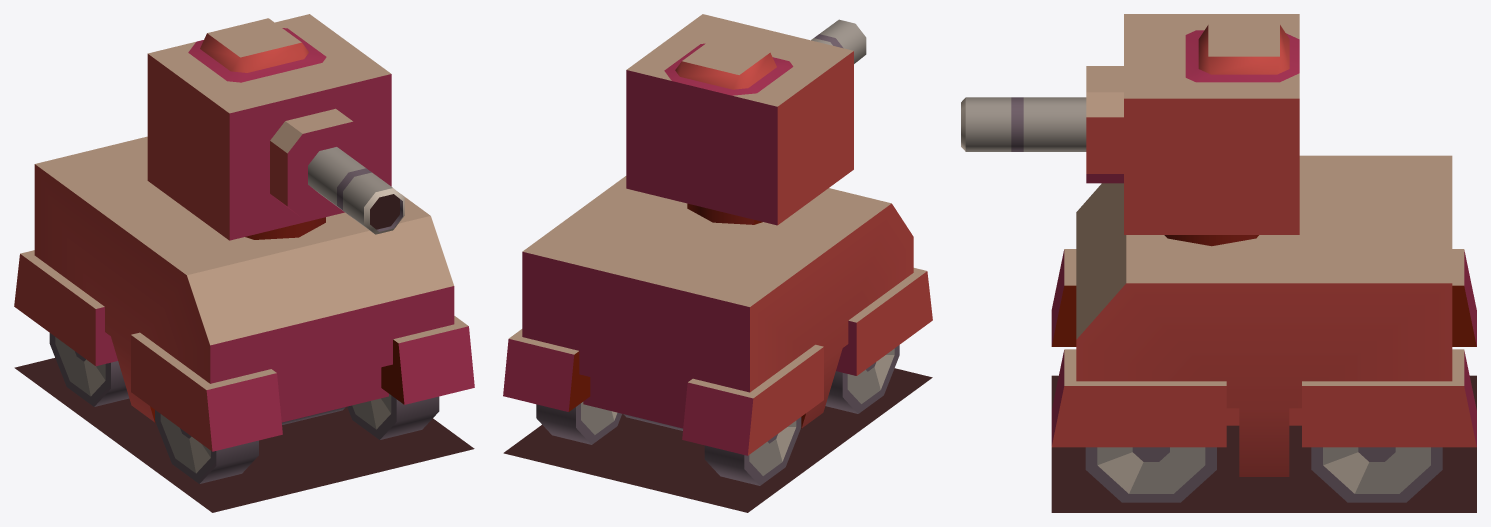
The model's file is ReconMesh.RedFire.glb.
3 views of the same model, side by side, from view 1: azimuth 30°, elevation 25°; view 2: azimuth 150°, elevation 25°; view 3: azimuth 270°, elevation 25° (orthographic). The views are drawn at different scales.
Parts seen in each view (by area): view 1: ReconMesh.RedFire; view 2: ReconMesh.RedFire; view 3: ReconMesh.RedFire.
Boxes of the visible parts, left/top/right/bottom form: ReconMesh.RedFire: left=14, top=14, right=474, bottom=512; ReconMesh.RedFire: left=503, top=14, right=932, bottom=512; ReconMesh.RedFire: left=961, top=14, right=1476, bottom=512.
Size of the model in its own units: 1.3 by 1.79 by 2.06.
1 material, 1 textured.
